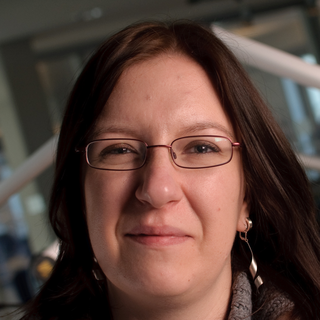eye: (96, 135, 140, 165), (177, 138, 222, 162)
